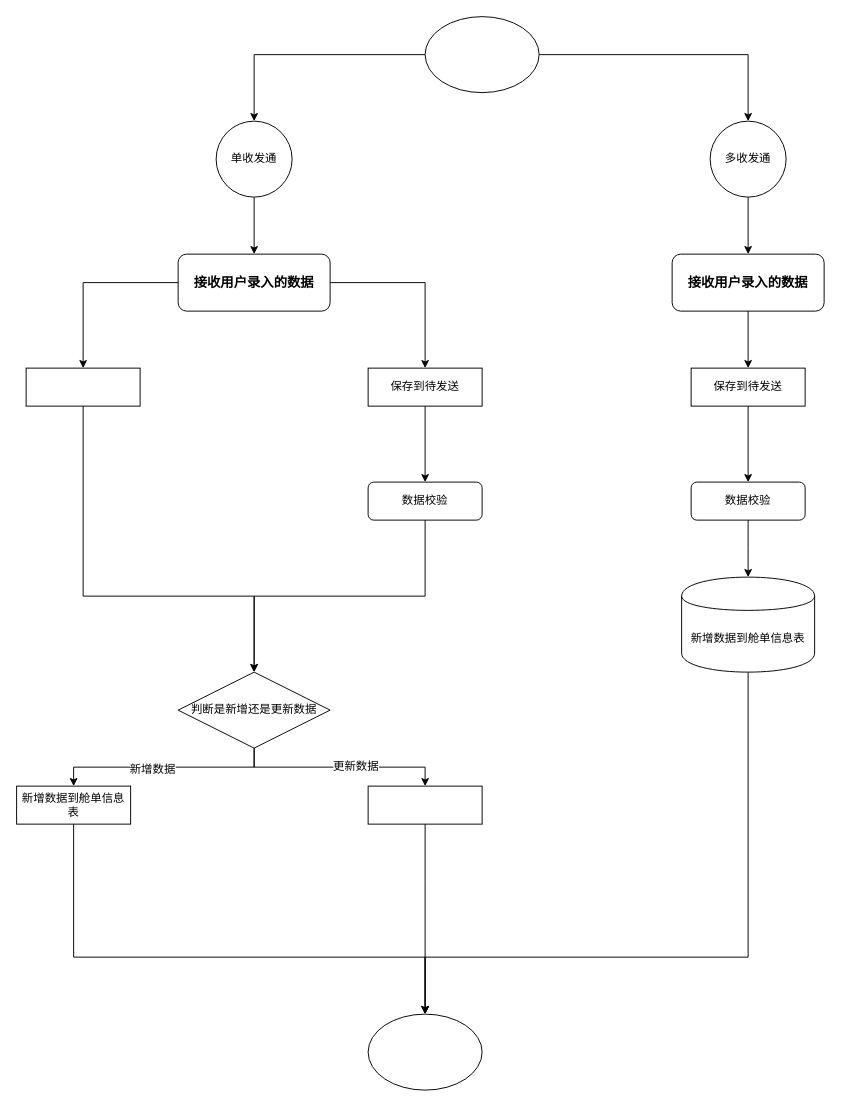
Some shapes in this 841 by 1107 pixel diagram are drawn without their labels. Here are the shapes that lost their labels. From the top down, the centre of each, then its label:
[481,54]: 开始
[82,386]: 保存到草稿箱
[424,804]: 更新舱单信息表的数据
[424,1051]: 结束
